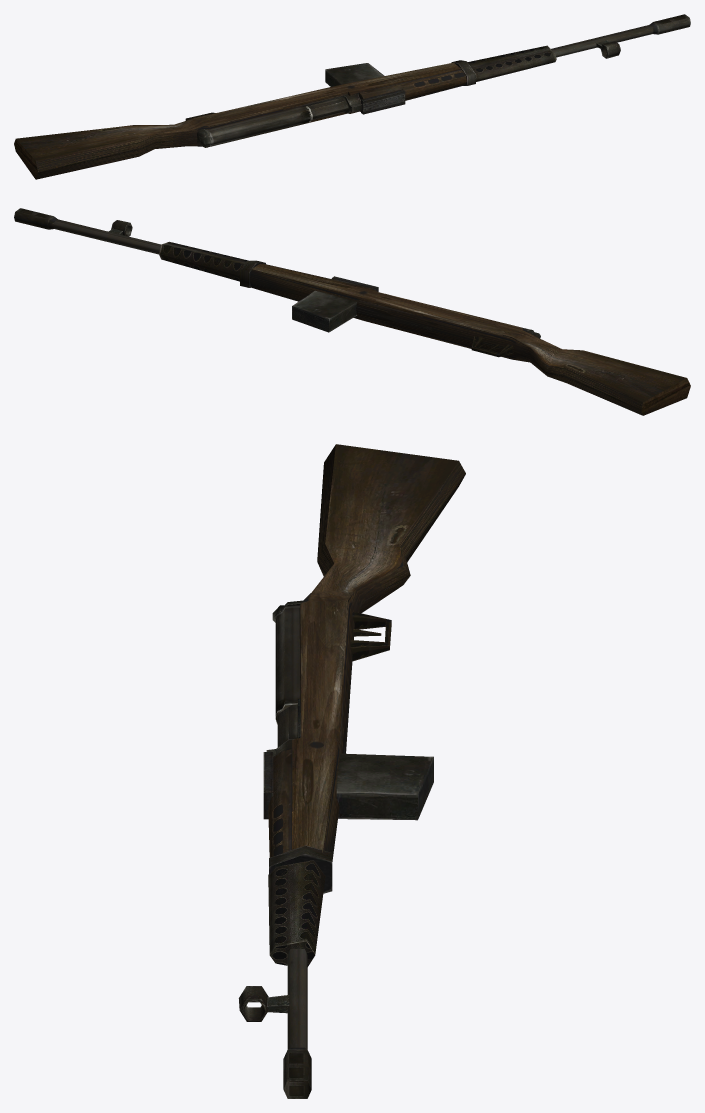
Rendered from weapon_rus_svt40_rifle_LOD21.obj.
3 renders of one model, top to bottom at view 1: azimuth 30°, elevation 25°; view 2: azimuth 150°, elevation 25°; view 3: azimuth 270°, elevation 25°, orthographic. The views are drawn at different scales.
Visible parts, largest first — view 1: TomGroup_1, TomGroup_0; view 2: TomGroup_1, TomGroup_0; view 3: TomGroup_1, TomGroup_0.
Part boxes in pixels (x1,y1,x2,y2): TomGroup_1: [14, 62, 466, 179]; TomGroup_0: [185, 14, 690, 147]; TomGroup_1: [249, 263, 690, 415]; TomGroup_0: [14, 208, 540, 357]; TomGroup_1: [268, 444, 465, 861]; TomGroup_0: [238, 600, 433, 1098].
Bounding box in the file's own units: 132 × 4.39 × 20.18.
2 materials, 2 textured.
